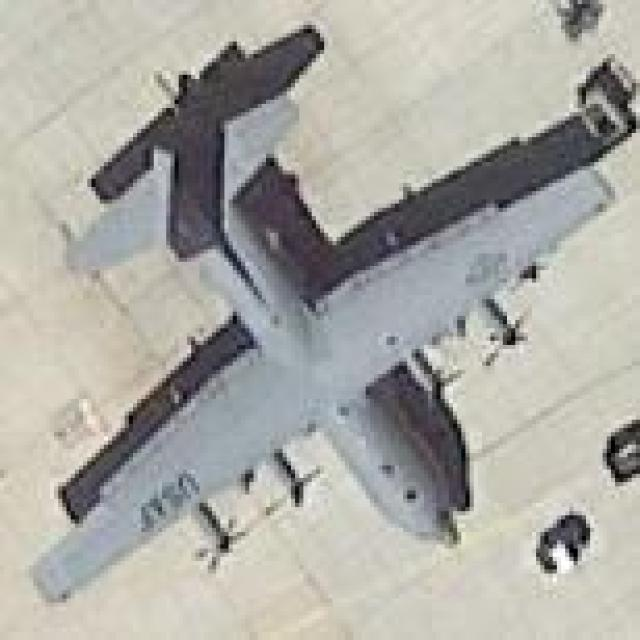C-130_TopDown: (28, 22, 619, 606)
